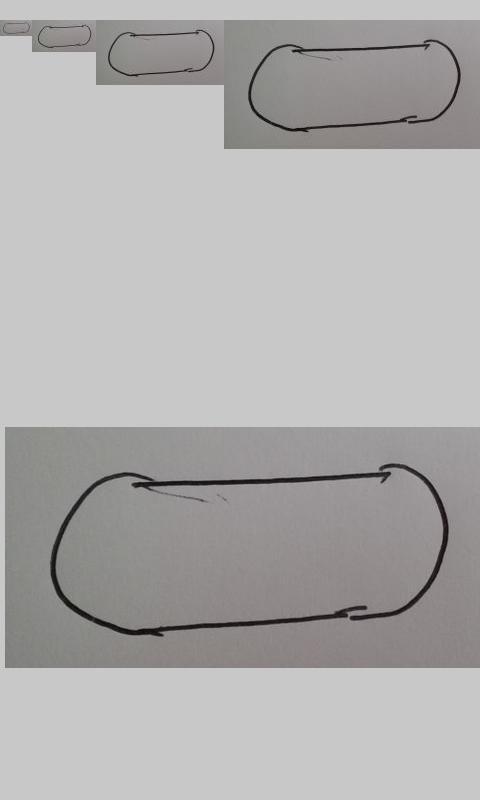chip: (49, 463, 450, 638), (247, 39, 462, 133), (107, 29, 215, 77), (37, 24, 92, 48), (2, 22, 30, 34)
